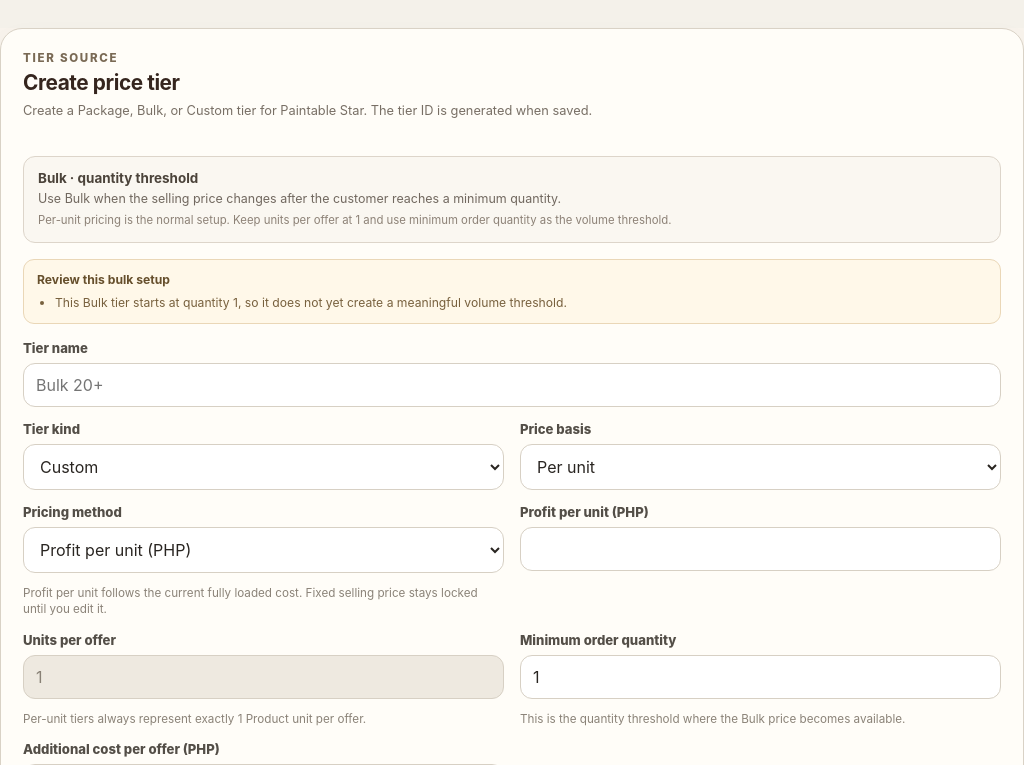
TP6C ProductPriceTierEditorPanel kind-aware UX › keeps Custom tiers explicit and does not imply automatic selection
Select "Custom" in the dropdown labelled "Tier kind" at x=264, y=467, box x1=23 y1=444 x2=504 y2=490
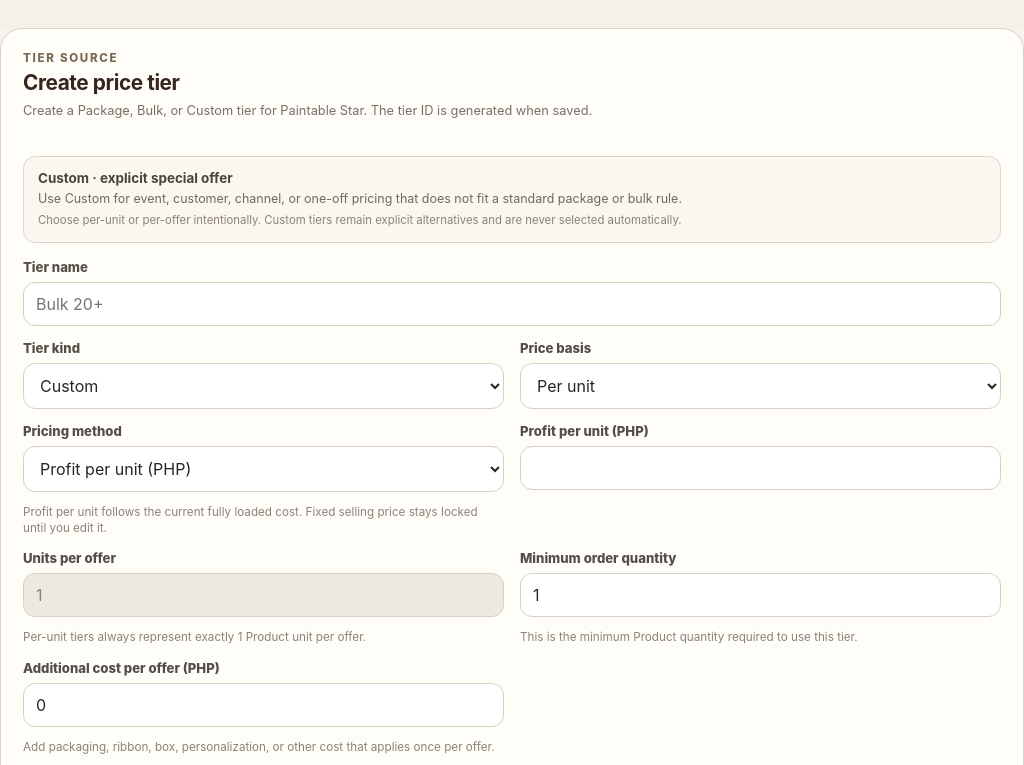
Now the text "Custom · explicit special offer" is shown, box x1=38 y1=170 x2=233 y2=186
Now the text "never selected automatically" is shown, box x1=38 y1=213 x2=682 y2=227
